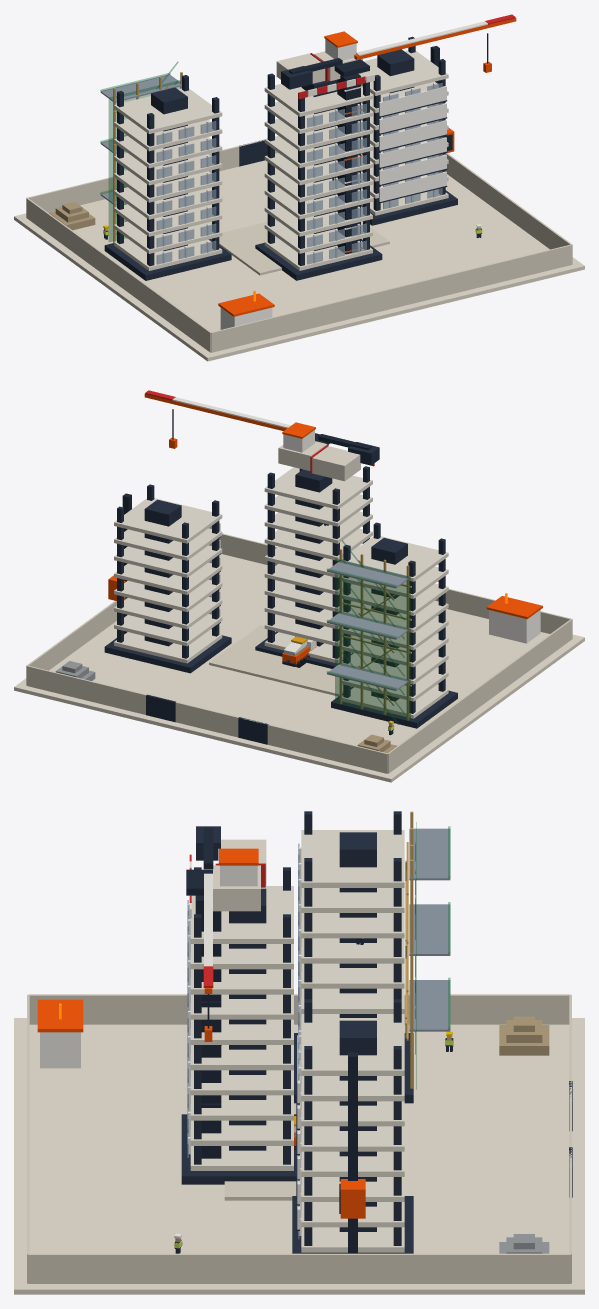
File: site-hk-timelapse.glb
The picture shows the model from 3 angles, top to bottom: view 1: azimuth 30°, elevation 25°; view 2: azimuth 150°, elevation 25°; view 3: azimuth 270°, elevation 25°; orthographic projection. The views are drawn at different scales.
Visible parts, largest first — view 1: slab (×22), sand, south, panel (×6), west, raft (×3), east, core (×3), courtyard, north, sheet, fan (+7 smaller); view 2: slab (×27), sand, sheet, north, core (×3), west, courtyard, fan (×3), raft (×2), south, east, body (+8 smaller); view 3: sand, slab (×24), east, west, core (×3), fan (×3), raft (×3), mast, roof, body, boxB, courtyard (+9 smaller).
Part boxes in pixels (box(x1,y1,x2,y2)): slab (×22): box(114, 50, 448, 270); sand: box(14, 160, 584, 361); south: box(211, 244, 572, 352); panel (×6): box(379, 86, 446, 201); west: box(26, 198, 211, 352); raft (×3): box(104, 190, 457, 280); east: box(445, 153, 572, 263); core (×3): box(151, 49, 414, 251); courtyard: box(211, 219, 389, 275); north: box(27, 139, 278, 212); sheet: box(109, 80, 179, 241); fan: box(100, 74, 181, 102); slab (×27): box(114, 467, 448, 718); sand: box(14, 554, 584, 782); sheet: box(335, 558, 410, 721); north: box(26, 665, 387, 773); core (×3): box(144, 469, 407, 701); west: box(387, 619, 572, 773); courtyard: box(209, 625, 351, 696); fan (×3): box(327, 561, 409, 690); raft (×2): box(104, 633, 457, 728); south: box(219, 533, 571, 633); east: box(26, 601, 116, 684); body: box(489, 610, 540, 643); sand: box(14, 1018, 584, 1294); slab (×24): box(190, 830, 404, 1252); east: box(28, 1253, 570, 1283); west: box(28, 994, 570, 1024); core (×3): box(229, 832, 376, 1231); fan (×3): box(409, 828, 450, 1031); raft (×3): box(181, 1033, 413, 1253); mast: box(348, 1052, 357, 1253); roof: box(37, 999, 83, 1032); body: box(40, 1032, 80, 1068); boxB: box(213, 865, 260, 911); courtyard: box(224, 1103, 296, 1200).
Size of the model in its own units: 18 by 9.98 by 16.
